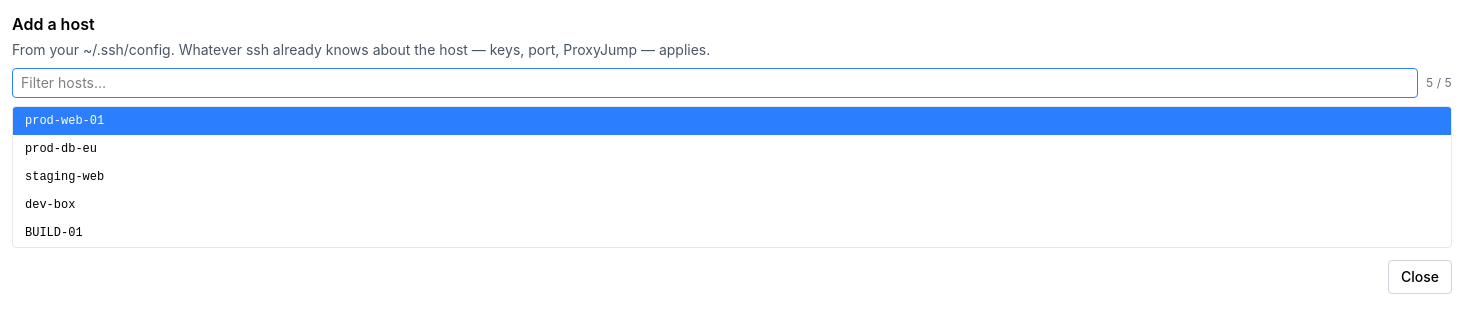
Scenario: AddRemoteDialog › says so when nothing matches
Type "zzz" into the field with placeholder "Filter hosts…". click: [715, 83]
box: [12,68,1418,98]
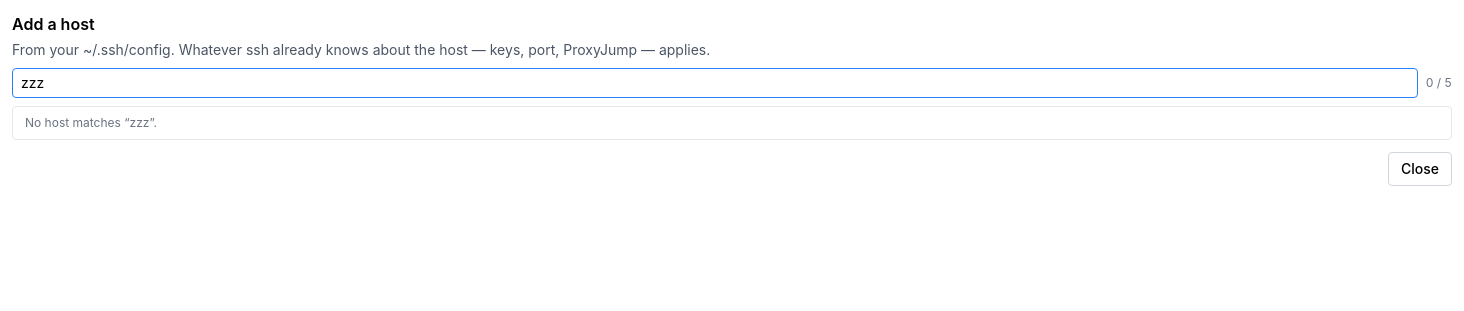
Check: the text "No host matches “zzz”." is shown, box [25,115,157,130]
